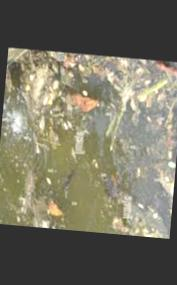Blocked drain: (0, 46, 177, 238)
